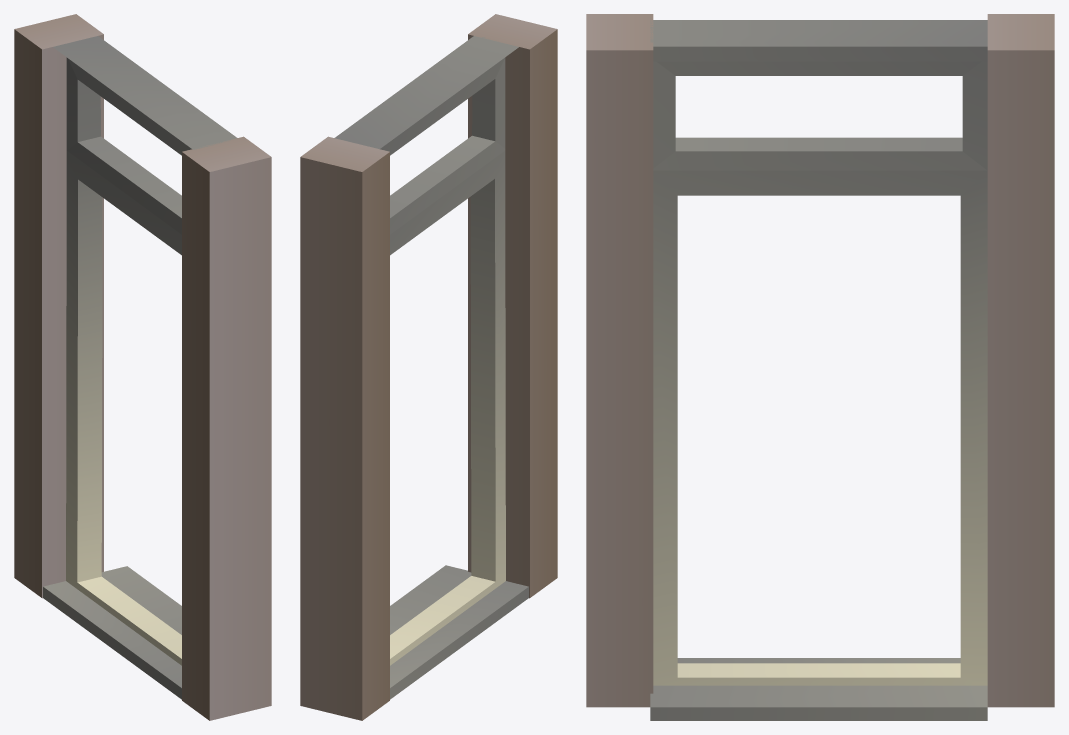
File: B01_cadre_porte_1.fbx
The picture shows the model from 3 angles, left to right: view 1: azimuth 30°, elevation 25°; view 2: azimuth 150°, elevation 25°; view 3: azimuth 270°, elevation 25°; orthographic projection. The views are drawn at different scales.
Parts seen in each view (by area): view 1: B01_cadre_porte_1; view 2: B01_cadre_porte_1; view 3: B01_cadre_porte_1.
Boxes of the visible parts, box(x1,y1,x2,y2) form: B01_cadre_porte_1: box(14, 14, 271, 720); B01_cadre_porte_1: box(300, 14, 557, 720); B01_cadre_porte_1: box(586, 14, 1054, 720).
Size of the model in its own units: 49.53 by 305 by 197.
